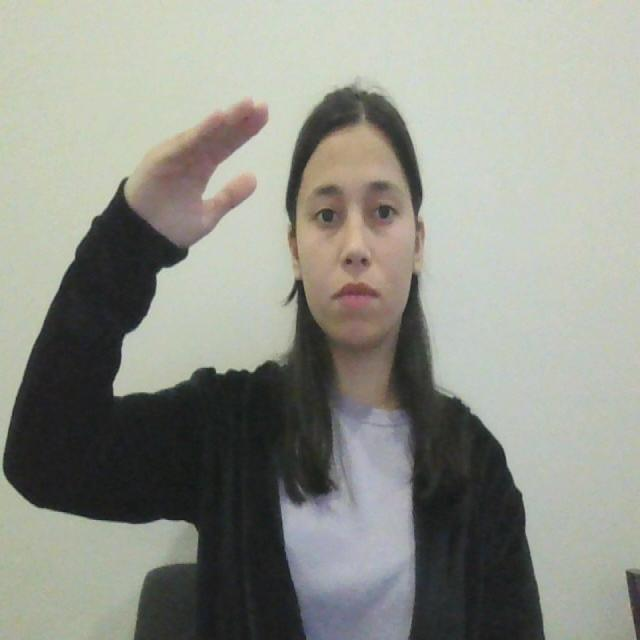Merhaba: (131, 65, 328, 314)
